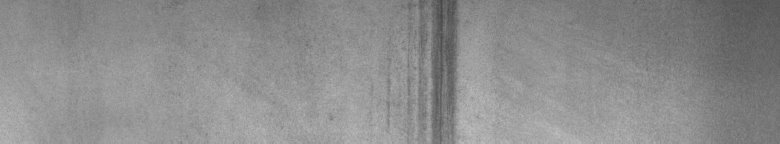ka: (387, 4, 465, 136)
